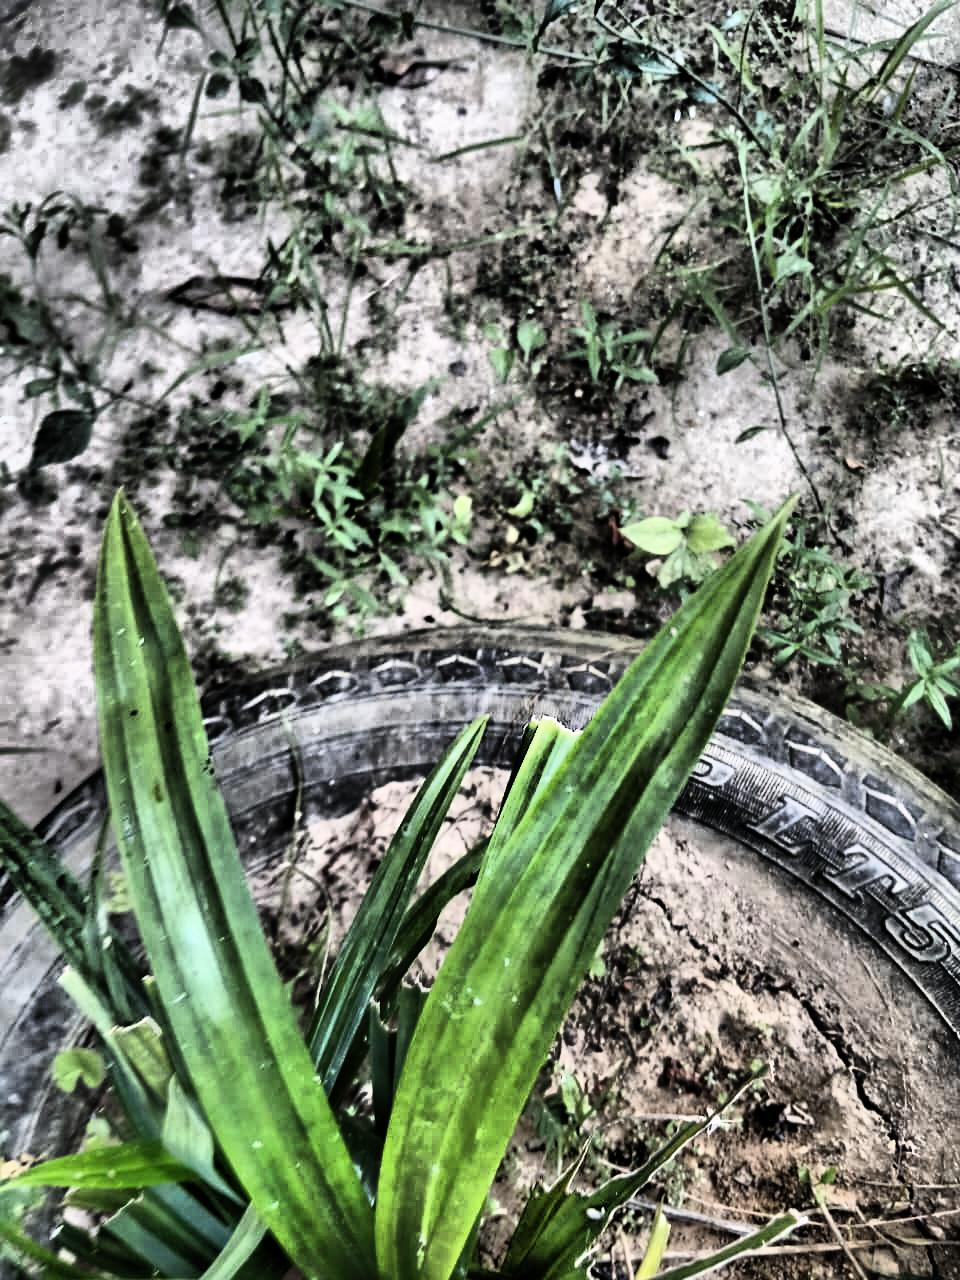daun pandan: (0, 492, 788, 1279)
